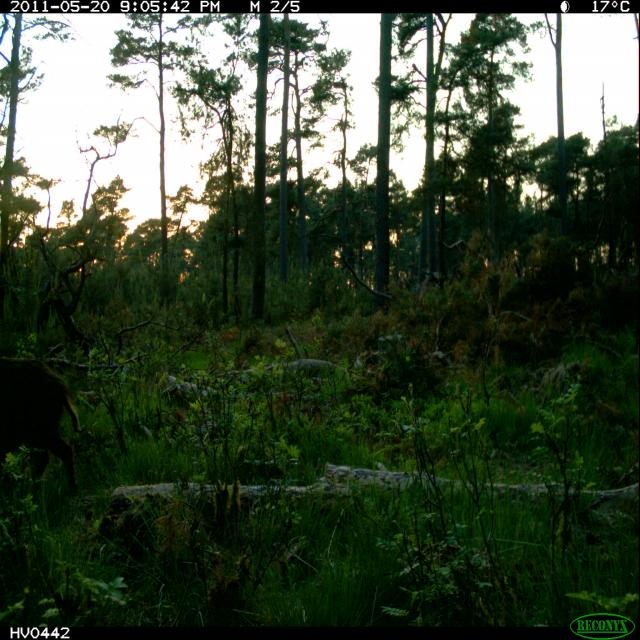boar: (3, 333, 104, 575)
